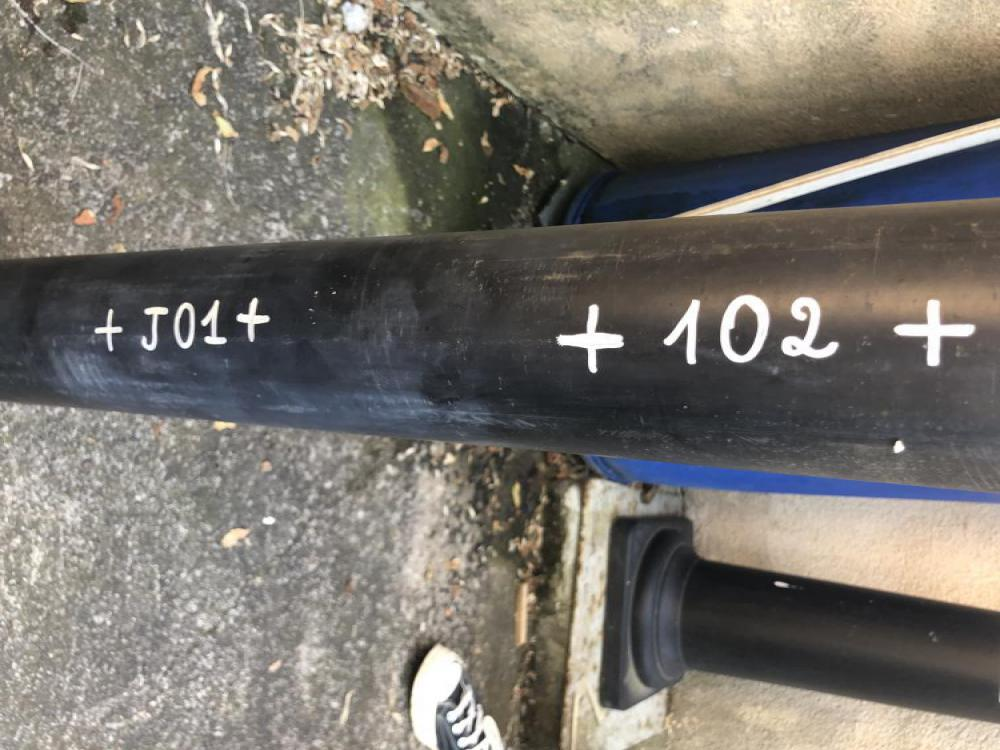+: (896, 299, 974, 367), (556, 305, 624, 375), (238, 298, 272, 341), (94, 309, 123, 353)
0: (720, 295, 770, 363), (173, 302, 197, 350)
1: (663, 300, 701, 366), (202, 300, 227, 345)
2: (780, 296, 839, 360)
J: (140, 307, 168, 349)
